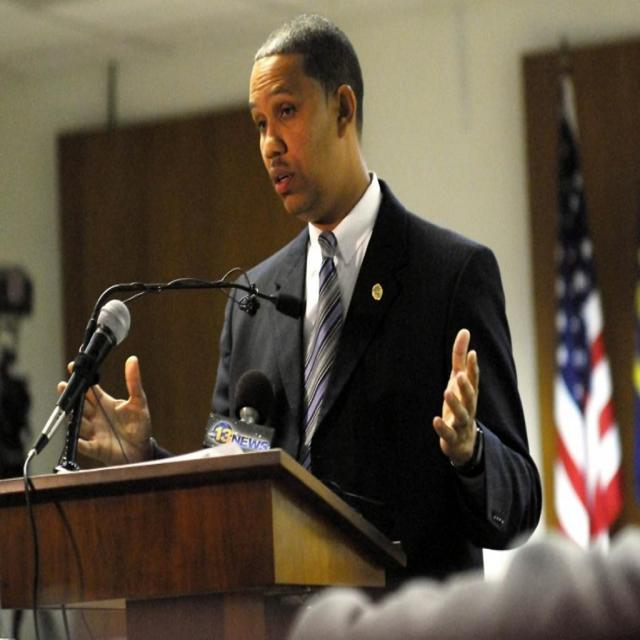nomask: (250, 59, 340, 214)
